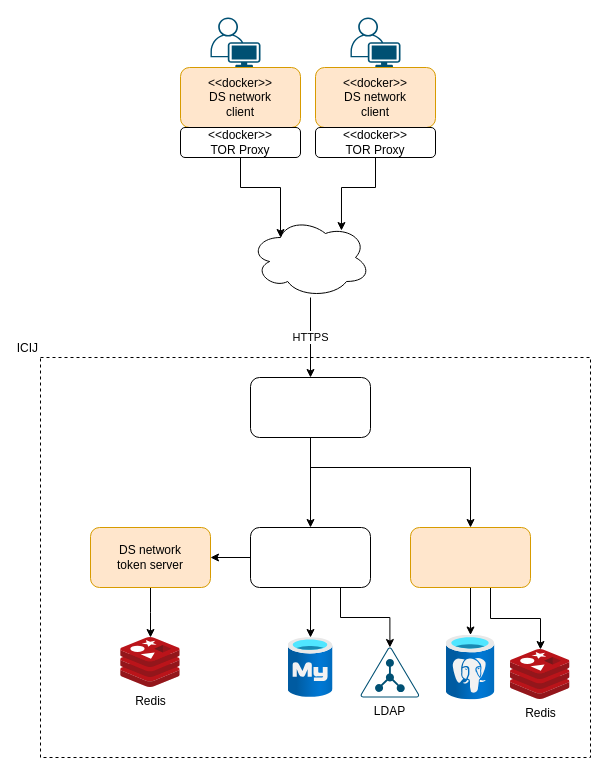
This 608x775 diagram has some shape labels left out. Each missing label, with the centre of its shape:
DS network server: [470,557]
HAProxy: [310,407]
TOR network: [310,257]
Xemx: [310,557]
